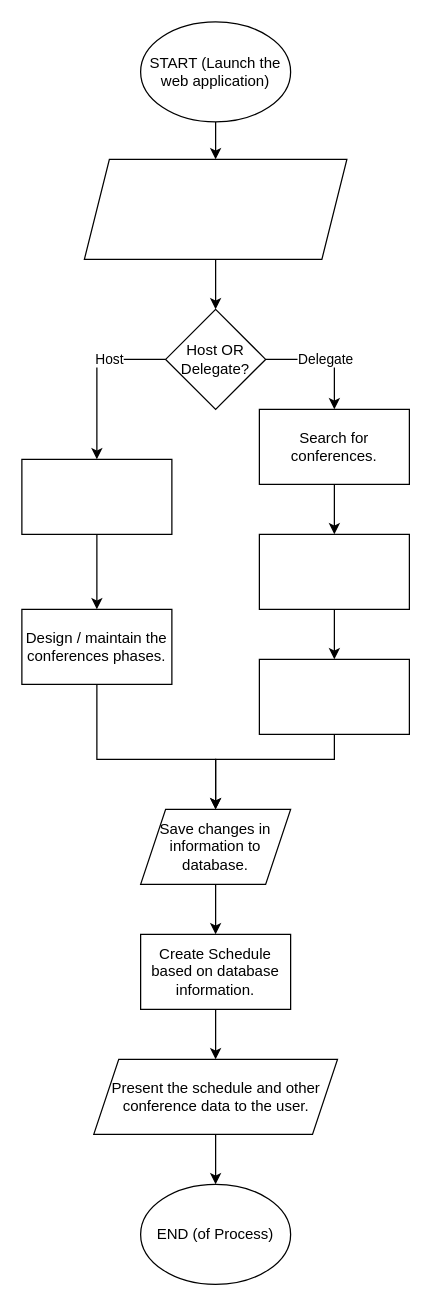
Image size: 431x1306. Some labels were removed from this diagram. The centre of each missing label's shape, as x and y in pixels:
Create / maintain conferences.: point (96, 496)
Rate each conference talk / activity by preference.: point (333, 696)
Register to a conference.: point (333, 571)
Users create their account, on the front-end of the site.: point (215, 208)
